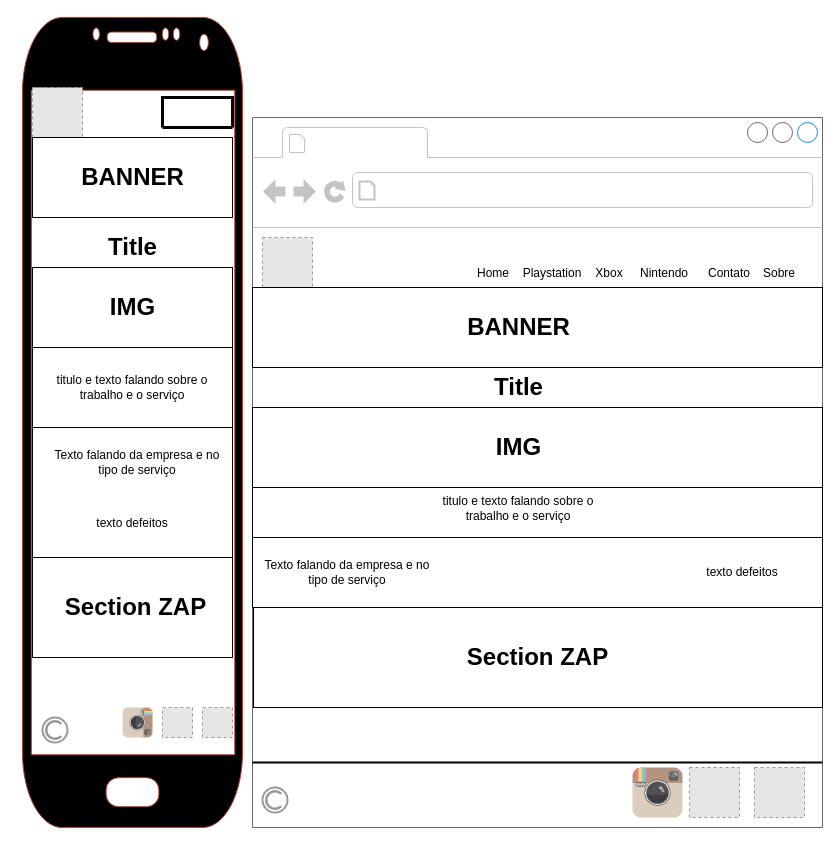
This 840x845 diagram has some shape labels left out. Grey dashed boxes stand in for pictures. Here are the shapes that lost their labels. From the top down, the box of each, then its label:
(160, 96, 234, 128): Menu
(312, 128, 472, 156): Outlaw Games
(382, 176, 632, 204): https://andradejao.github.io/outlawgames/
